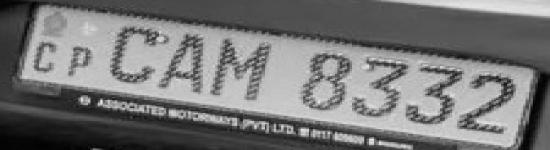2: (461, 73, 520, 135)
3: (353, 52, 412, 119), (406, 59, 461, 126)
8: (298, 47, 353, 113)
C: (159, 30, 209, 98), (110, 23, 158, 88), (33, 40, 62, 74)
M: (212, 39, 274, 104)
P: (66, 44, 97, 76)
